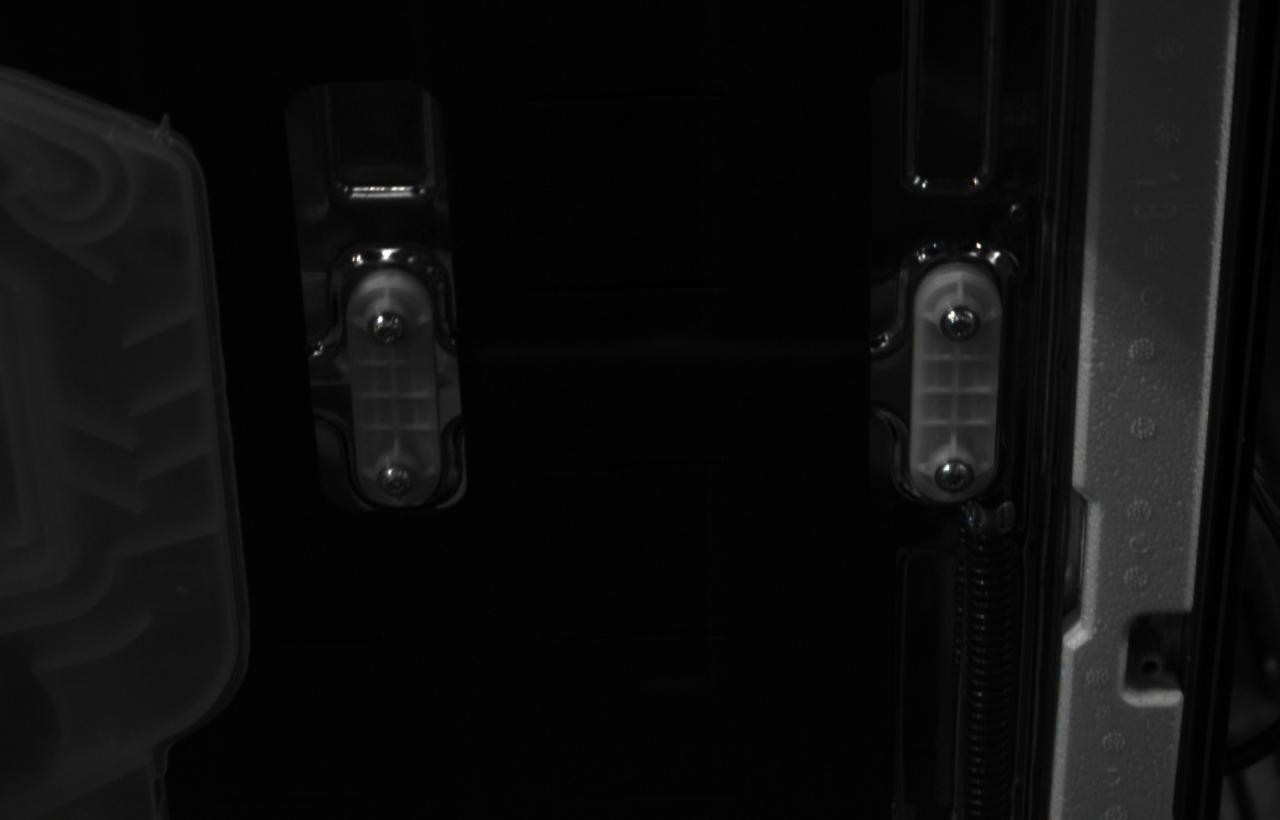vida-ok: (940, 306, 980, 343), (934, 459, 975, 494), (368, 311, 405, 347), (376, 464, 414, 498)
